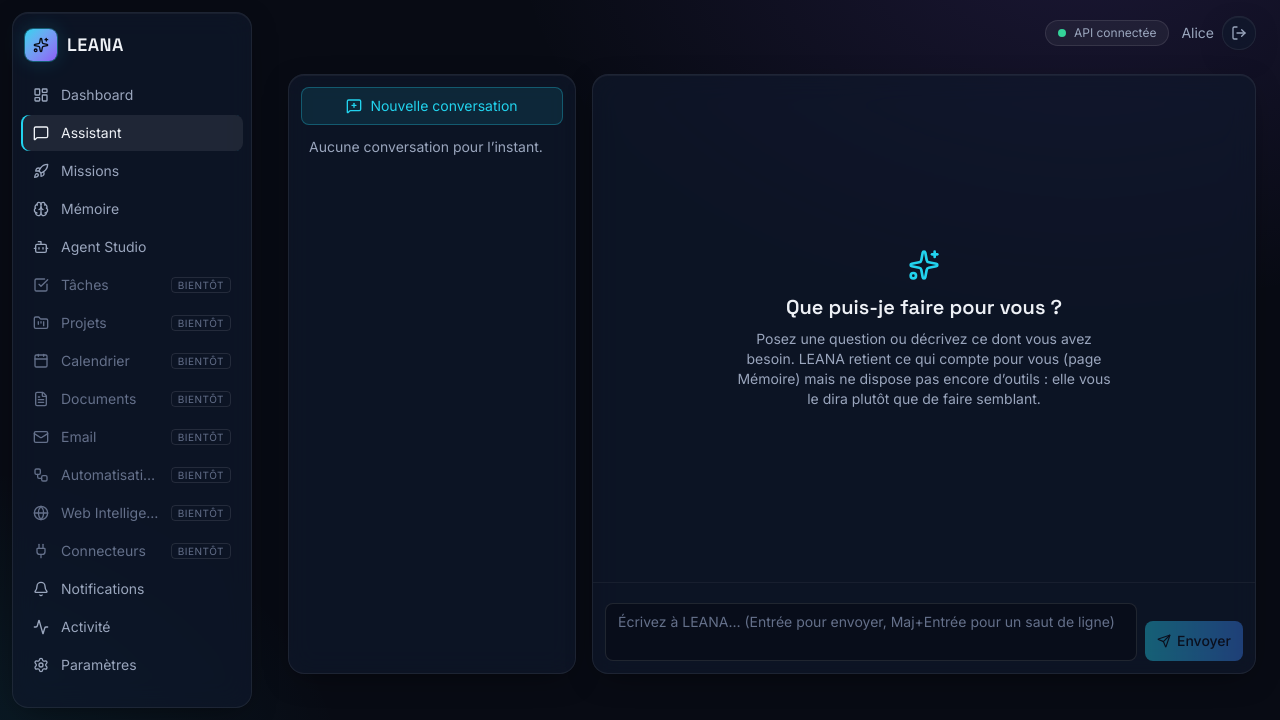
Test case: memory in settings and chat › shows what was just learned under the reply, after the thread moves to its new id
The width and height of the screenshot is (1280, 720).
Step 1. Replace the text in the text box named "Message pour LEANA" with "Je travaille chez Acme et j’habite à Lyon maintenant" → (871, 632), box [605,603,1137,661]
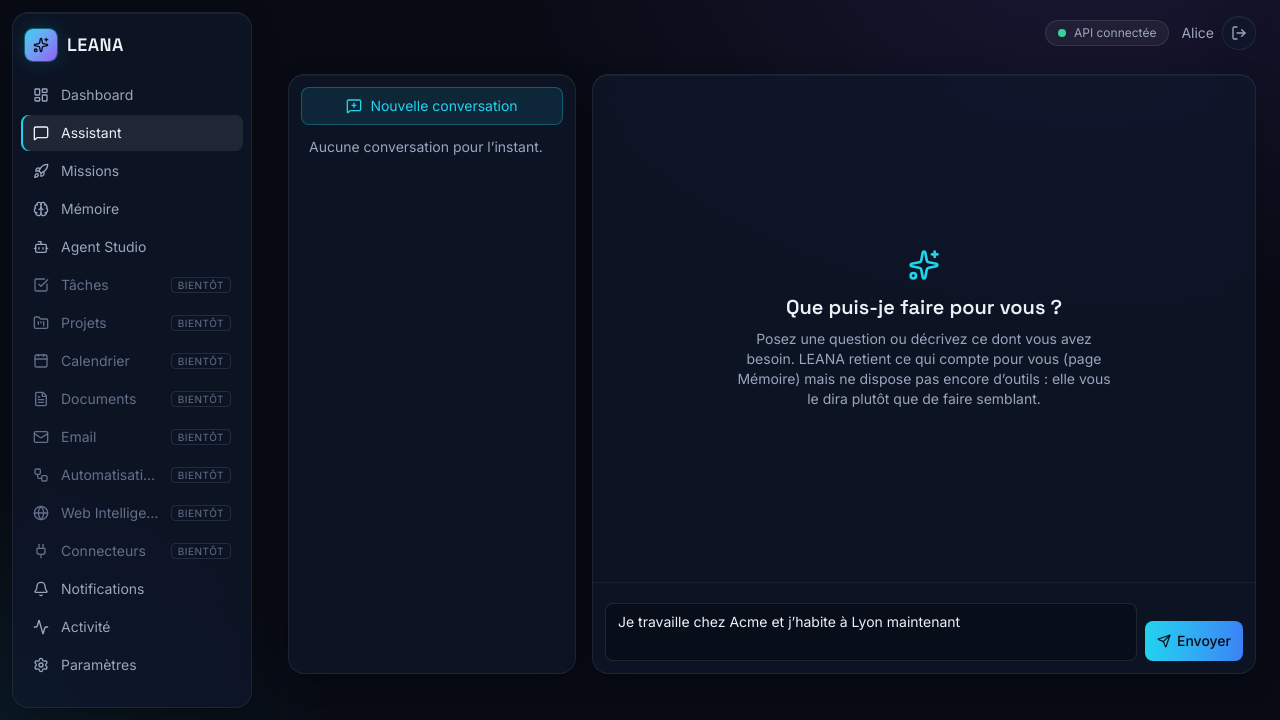
Step 2. Click the button "Envoyer" → click(1194, 641), box [1145,621,1243,661]
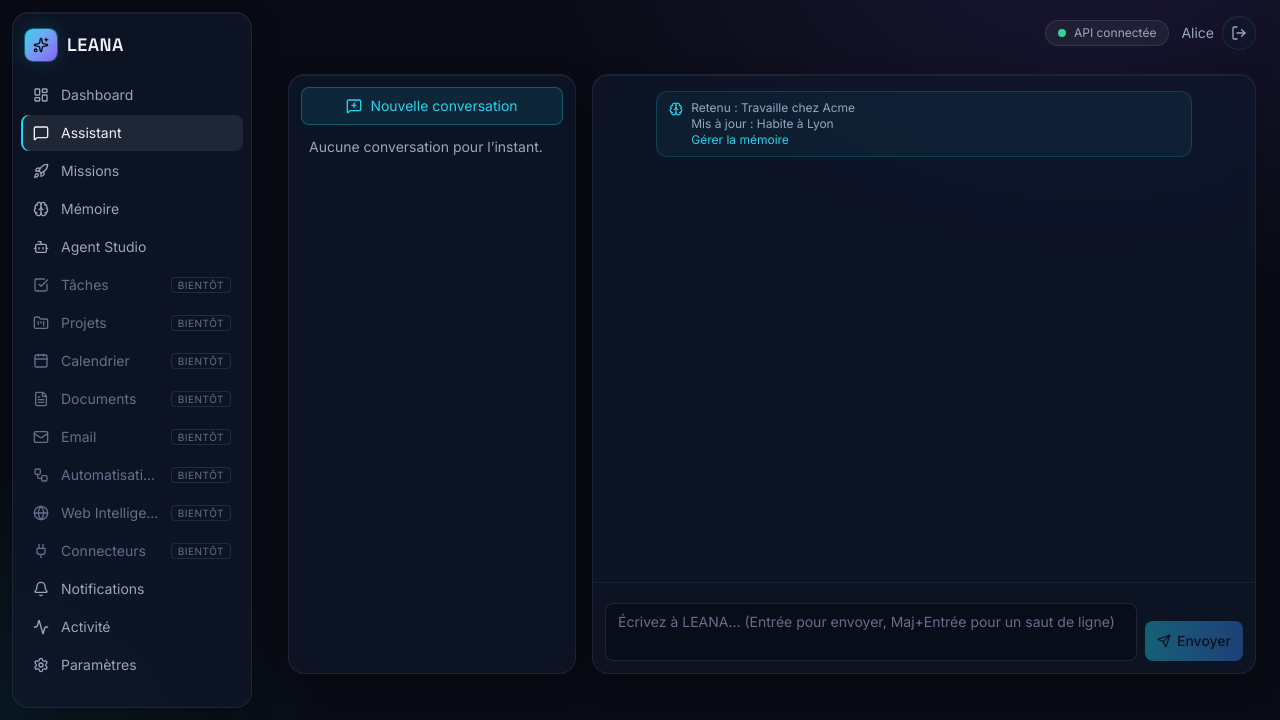
Expected: the text "Retenu : Travaille chez Acme" shows "Mis à jour : Habite à Lyon", [691,116,834,131]
